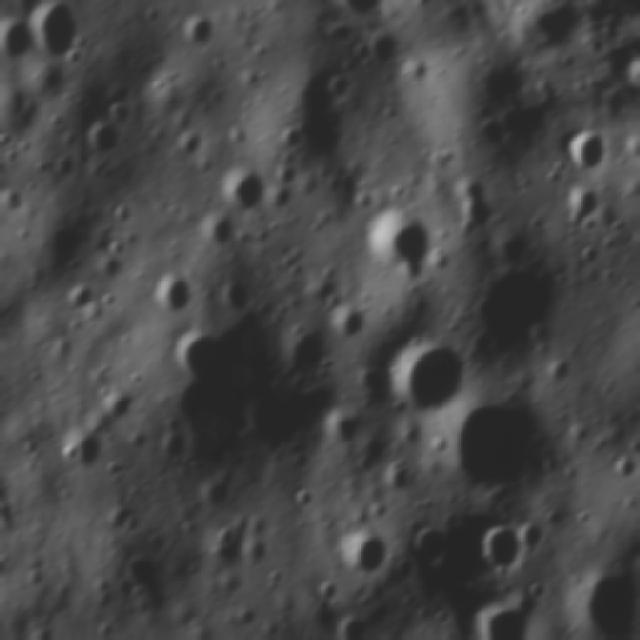crater: (162, 317, 330, 451), (436, 396, 564, 498), (451, 257, 562, 363), (382, 336, 478, 418), (357, 206, 435, 280), (572, 559, 638, 638), (24, 6, 88, 72), (467, 598, 544, 640), (217, 162, 272, 218), (149, 266, 205, 320), (170, 327, 224, 382), (331, 528, 387, 578), (477, 522, 528, 576), (562, 121, 609, 177), (119, 550, 167, 598), (406, 519, 451, 570), (447, 184, 488, 239), (563, 186, 608, 234), (83, 117, 128, 163), (64, 429, 110, 473), (63, 279, 105, 327), (351, 366, 398, 408), (191, 475, 231, 523), (0, 18, 40, 64), (352, 432, 388, 483), (320, 412, 362, 454), (196, 216, 238, 258), (96, 384, 139, 425), (174, 14, 220, 52), (151, 426, 191, 468), (370, 32, 407, 71), (331, 611, 384, 638), (219, 284, 256, 322), (173, 125, 210, 162), (320, 68, 354, 108), (326, 315, 368, 347), (516, 518, 547, 559), (384, 466, 416, 499), (93, 258, 129, 287), (0, 189, 29, 223), (270, 163, 304, 191), (281, 125, 308, 158), (611, 455, 638, 487), (576, 249, 602, 280), (318, 582, 344, 608), (291, 488, 317, 514), (104, 241, 130, 267), (393, 557, 415, 585)
